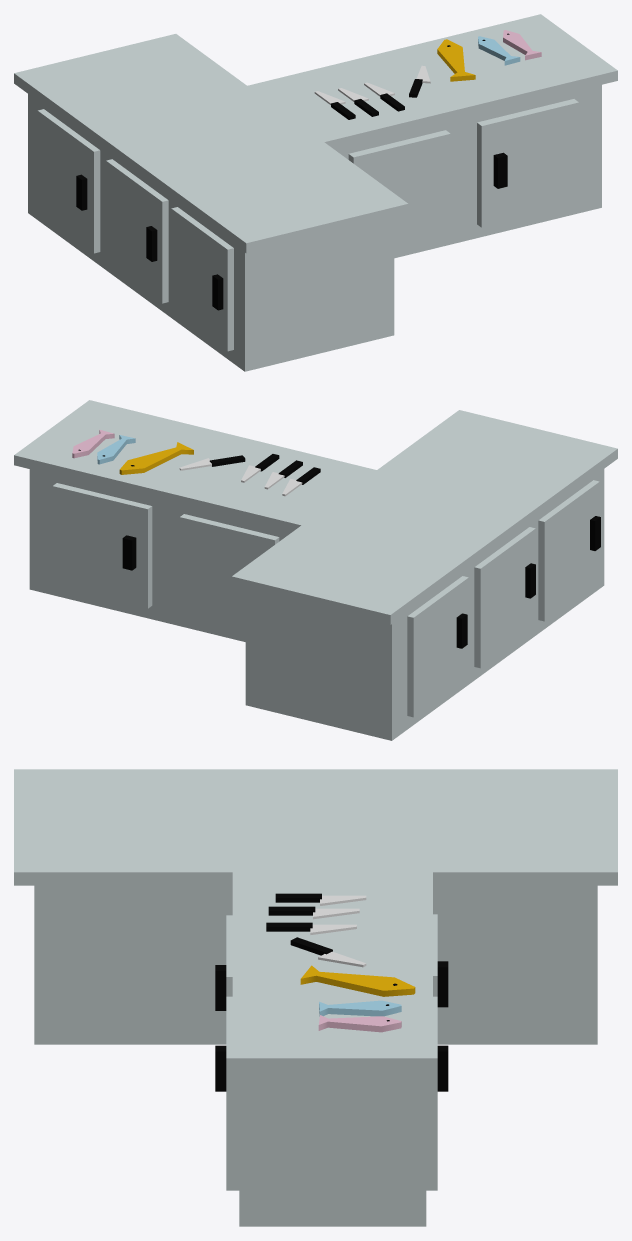
Rendered from Fish Table.fbx.
The picture shows the model from 3 angles, top to bottom: view 1: azimuth 30°, elevation 25°; view 2: azimuth 150°, elevation 25°; view 3: azimuth 270°, elevation 25°; orthographic projection. The views are drawn at different scales.
Parts seen in each view (by area): view 1: table_base_seafood, fish, fish1, fish2; view 2: table_base_seafood, fish, fish2, fish1, manche_knife3; view 3: table_base_seafood, fish, fish2, fish1, manche_knife5, manche_knife4, manche_knife6, manche_knife3.
Boxes of the visible parts, x1,y1,x2,y2 form: table_base_seafood: [14, 14, 617, 371]; fish: [437, 39, 475, 81]; fish1: [478, 36, 520, 65]; fish2: [503, 30, 541, 60]; table_base_seafood: [14, 400, 617, 740]; fish: [119, 442, 193, 474]; fish2: [72, 429, 114, 458]; fish1: [97, 435, 135, 464]; manche_knife3: [179, 455, 245, 470]; table_base_seafood: [14, 769, 617, 1226]; fish: [300, 965, 415, 996]; fish2: [318, 1015, 401, 1032]; fish1: [319, 1000, 401, 1016]; manche_knife5: [268, 906, 359, 919]; manche_knife4: [275, 893, 366, 905]; manche_knife6: [266, 922, 356, 934]; manche_knife3: [290, 937, 366, 967].
Bounding box in the file's own units: 3.35 × 0.9762 × 2.93.
